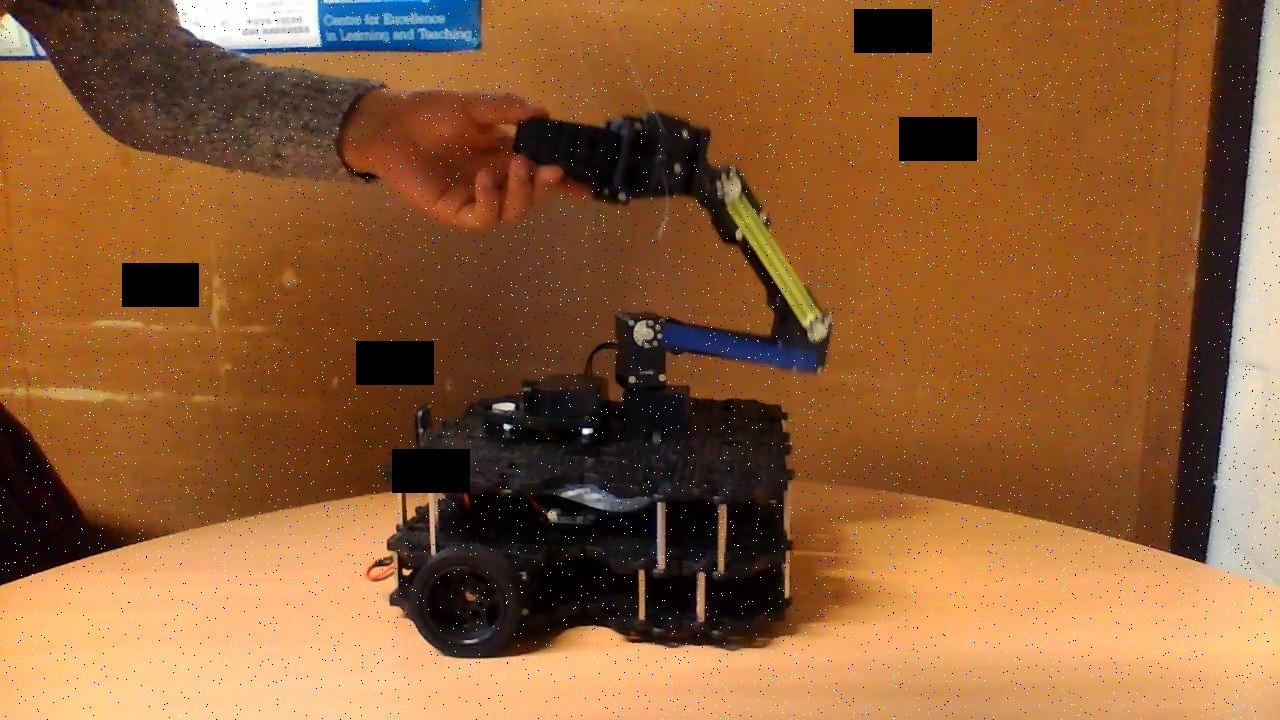Arm: (627, 312, 830, 377)
Hand: (510, 106, 717, 211)
Wrist: (706, 162, 832, 345)
base: (363, 369, 801, 662)
